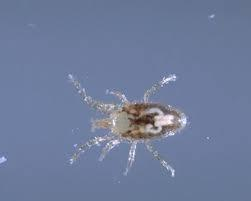Insects: (60, 64, 191, 183)
